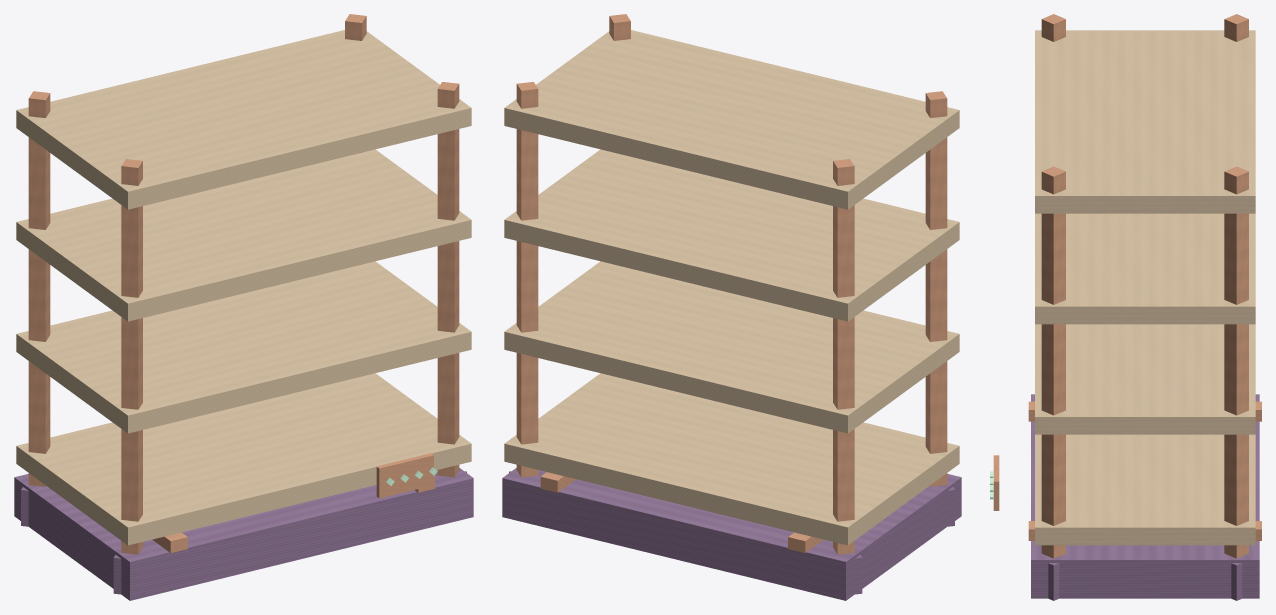
Rendered from atlas100-s082-a06.glb.
3 views of the same model, side by side, from view 1: azimuth 30°, elevation 25°; view 2: azimuth 150°, elevation 25°; view 3: azimuth 270°, elevation 25° (orthographic).
Visible parts, largest first — view 1: atlas100-s082-a06:part-014, atlas100-s082-a06:part-013, atlas100-s082-a06:part-012, atlas100-s082-a06:part-011, atlas100-s082-a06:part-000, atlas100-s082-a06:part-009, atlas100-s082-a06:part-005, atlas100-s082-a06:part-003, atlas100-s082-a06:part-015; view 2: atlas100-s082-a06:part-014, atlas100-s082-a06:part-011, atlas100-s082-a06:part-013, atlas100-s082-a06:part-012, atlas100-s082-a06:part-000, atlas100-s082-a06:part-007, atlas100-s082-a06:part-003, atlas100-s082-a06:part-005; view 3: atlas100-s082-a06:part-014, atlas100-s082-a06:part-013, atlas100-s082-a06:part-011, atlas100-s082-a06:part-012, atlas100-s082-a06:part-000, atlas100-s082-a06:part-007, atlas100-s082-a06:part-009, atlas100-s082-a06:part-005, atlas100-s082-a06:part-003, atlas100-s082-a06:part-008, atlas100-s082-a06:part-010, atlas100-s082-a06:part-015.
Boxes of the visible parts, bbox=[...] form: atlas100-s082-a06:part-014: bbox=[16, 30, 471, 209]; atlas100-s082-a06:part-013: bbox=[16, 149, 471, 321]; atlas100-s082-a06:part-012: bbox=[16, 261, 471, 433]; atlas100-s082-a06:part-011: bbox=[16, 373, 471, 545]; atlas100-s082-a06:part-000: bbox=[14, 468, 473, 600]; atlas100-s082-a06:part-009: bbox=[437, 82, 459, 477]; atlas100-s082-a06:part-005: bbox=[121, 159, 142, 554]; atlas100-s082-a06:part-003: bbox=[28, 91, 50, 486]; atlas100-s082-a06:part-015: bbox=[376, 453, 433, 498]; atlas100-s082-a06:part-014: bbox=[504, 30, 959, 209]; atlas100-s082-a06:part-011: bbox=[504, 373, 959, 545]; atlas100-s082-a06:part-013: bbox=[504, 149, 959, 321]; atlas100-s082-a06:part-012: bbox=[504, 261, 959, 433]; atlas100-s082-a06:part-000: bbox=[502, 468, 961, 600]; atlas100-s082-a06:part-007: bbox=[516, 82, 538, 477]; atlas100-s082-a06:part-003: bbox=[833, 159, 854, 554]; atlas100-s082-a06:part-005: bbox=[925, 91, 947, 486]; atlas100-s082-a06:part-014: bbox=[1035, 30, 1255, 213]; atlas100-s082-a06:part-013: bbox=[1035, 213, 1255, 324]; atlas100-s082-a06:part-011: bbox=[1035, 434, 1255, 545]; atlas100-s082-a06:part-012: bbox=[1035, 324, 1255, 434]; atlas100-s082-a06:part-000: bbox=[1031, 394, 1259, 598]; atlas100-s082-a06:part-007: bbox=[1224, 166, 1248, 558]; atlas100-s082-a06:part-009: bbox=[1041, 166, 1065, 558]; atlas100-s082-a06:part-005: bbox=[1041, 14, 1065, 41]; atlas100-s082-a06:part-003: bbox=[1224, 14, 1248, 41]; atlas100-s082-a06:part-008: bbox=[1231, 563, 1242, 600]; atlas100-s082-a06:part-010: bbox=[1048, 563, 1059, 600]; atlas100-s082-a06:part-015: bbox=[993, 455, 999, 510].
Size of the model in its own units: 2.47 by 2.84 by 1.66.
Materials: 4 (4 with a texture image).
